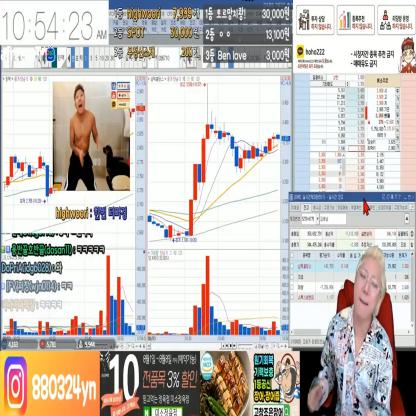donation: (53, 81, 130, 222)
streamer: (308, 246, 393, 416)
